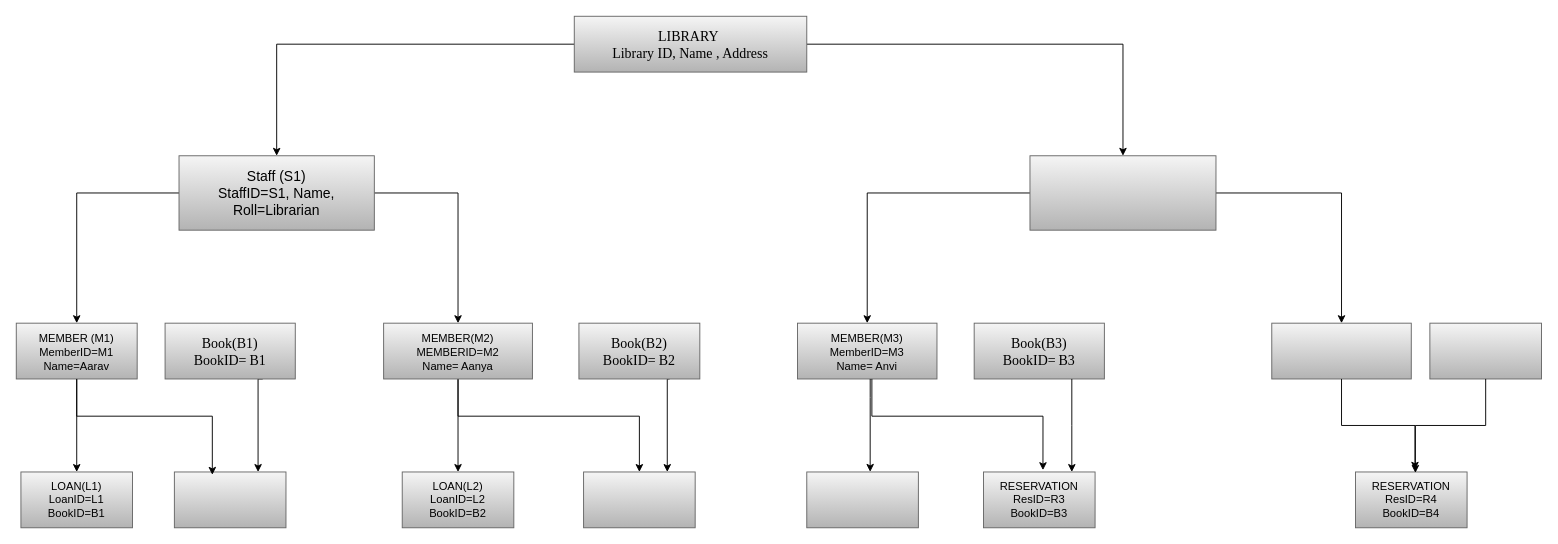
Image size: 1558x544. Some labels were removed from this diagram. The shapes that lost their labels are listed below. From the top down, each one's centre as x and y in pixels, then its label:
At point (1122, 192): "Staff(S2) StaffID=S2, Name, Roll=Clerk".
At point (1341, 350): "MEMBER(M4) MemberID=M4 Name= Khushi".
At point (1485, 350): "Book(B4) BookID= B4".
At point (229, 499): "RESERVATION ResID=R1 BookID=B1".
At point (639, 499): "RESERVATION ResID=R2 BookID=B2".
At point (862, 499): "LOAN(L3) LoanID=L3 BookID=B3".
